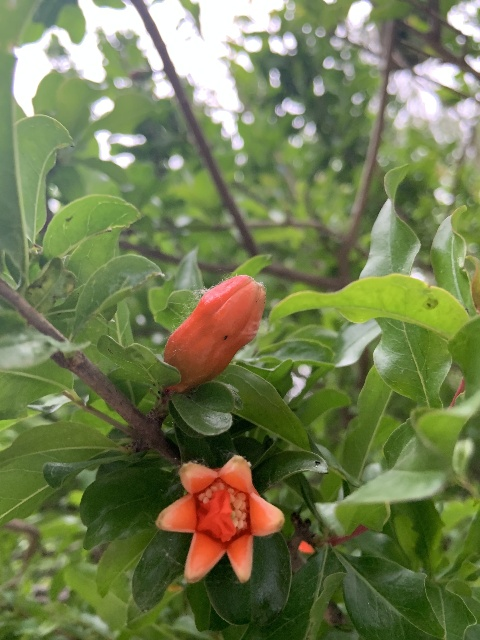bud: (163, 273, 266, 392)
flower: (156, 455, 284, 584)
